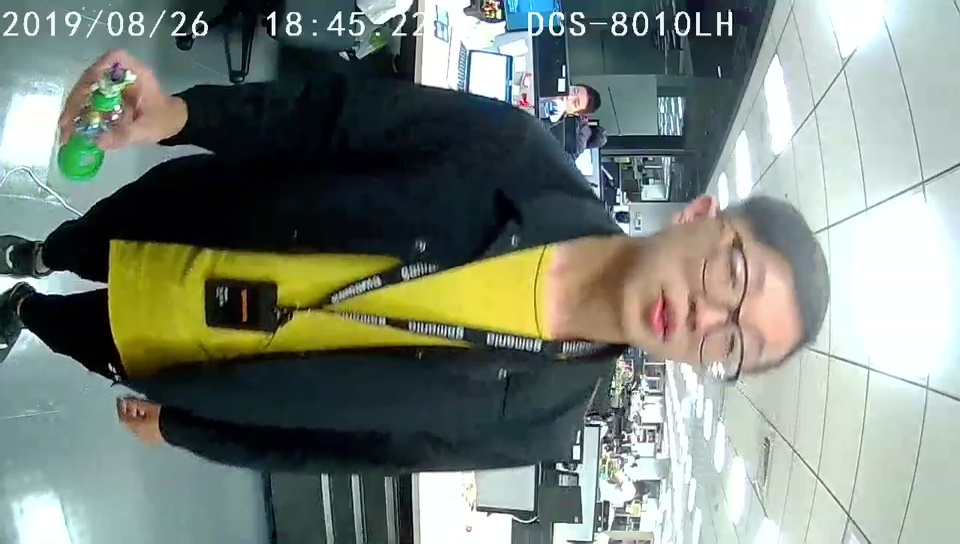buzz: (55, 64, 137, 183)
